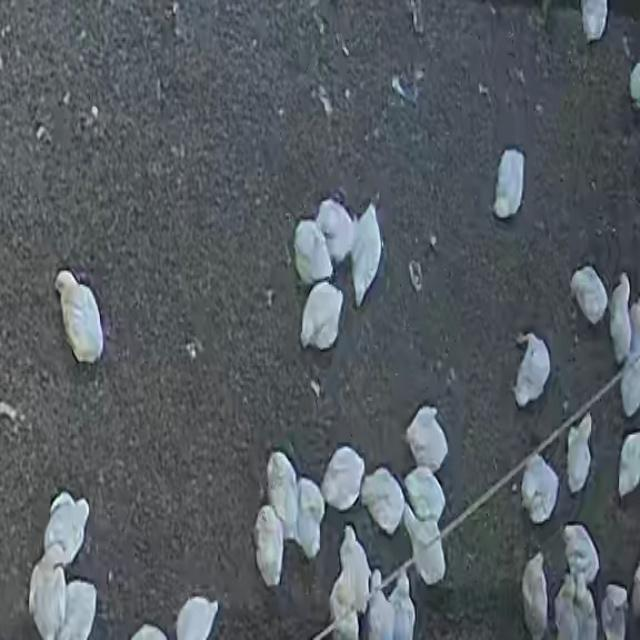chicken: (53, 270, 109, 366), (28, 547, 71, 640), (42, 492, 90, 568), (403, 506, 446, 586), (349, 204, 383, 304), (302, 277, 346, 349), (266, 451, 302, 537), (320, 446, 366, 513), (360, 468, 406, 535), (405, 406, 449, 474), (513, 332, 551, 407), (520, 454, 560, 524), (293, 218, 334, 284), (340, 526, 372, 610), (402, 467, 447, 525), (253, 506, 285, 587), (314, 197, 352, 265), (521, 552, 550, 638), (294, 480, 325, 558), (561, 523, 600, 585), (565, 415, 595, 494), (493, 149, 526, 219), (364, 572, 398, 639), (570, 265, 608, 323), (609, 275, 633, 362), (386, 570, 416, 638), (619, 343, 640, 418), (600, 584, 629, 638), (617, 431, 640, 499)
